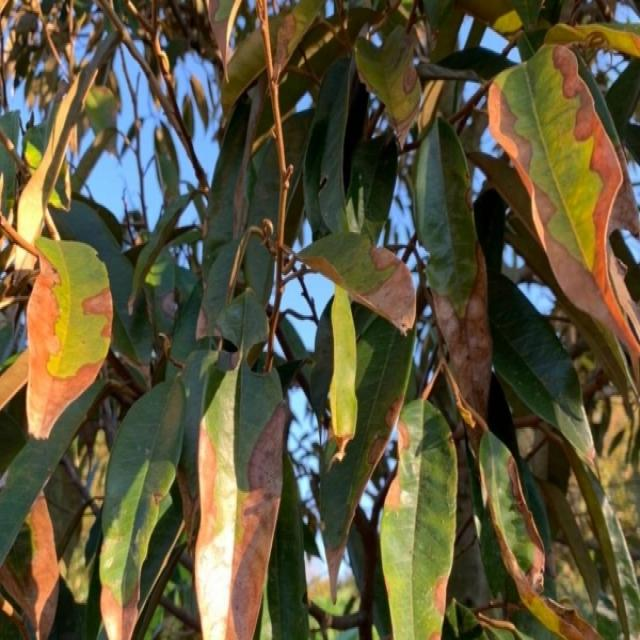Leaf Blight: (496, 61, 640, 359), (186, 394, 297, 640), (484, 453, 606, 640), (16, 231, 114, 452), (291, 224, 415, 338), (434, 236, 502, 434), (0, 486, 65, 640), (86, 577, 156, 640), (364, 92, 423, 154), (366, 396, 410, 468), (320, 527, 350, 606), (206, 24, 240, 84), (375, 472, 408, 520)
